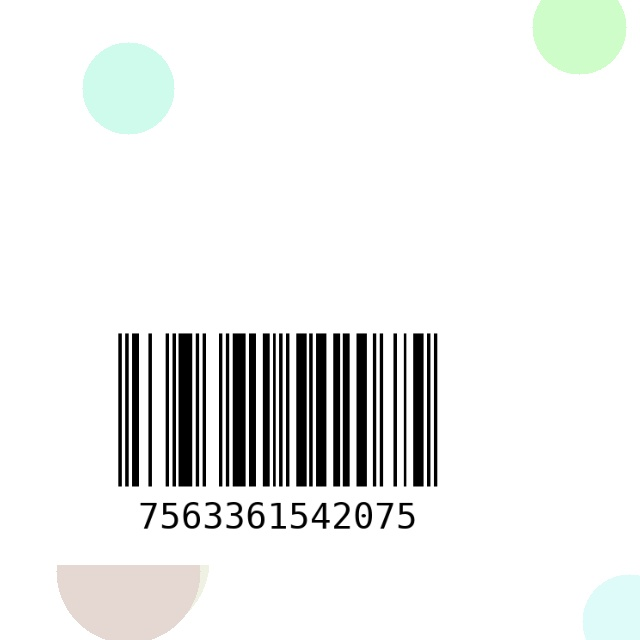barcode: (53, 324, 503, 565)
